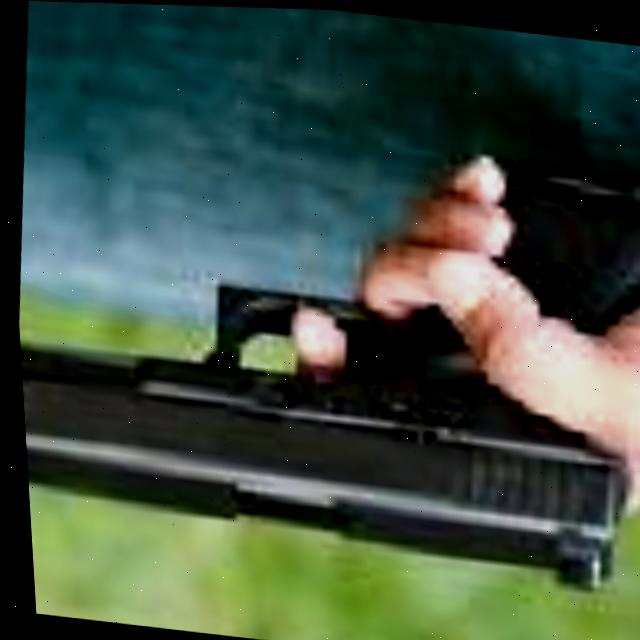pistol: (5, 103, 640, 596)
